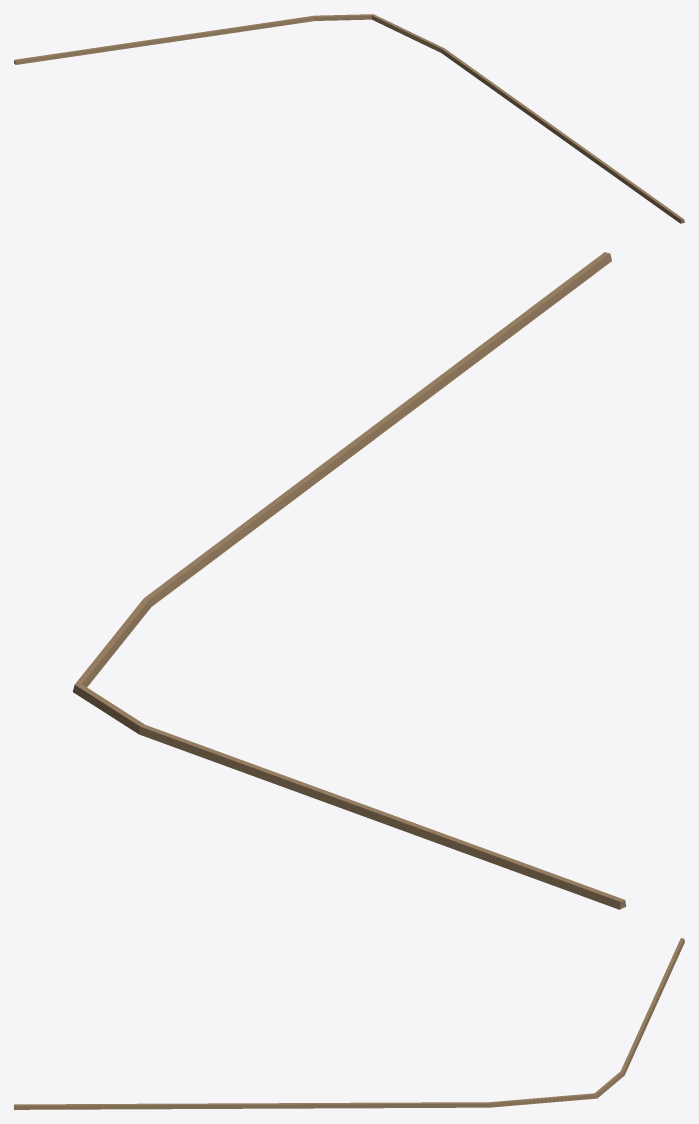
The model's file is wall-01.glb.
The picture shows the model from 3 angles, top to bottom: view 1: azimuth 30°, elevation 25°; view 2: azimuth 150°, elevation 25°; view 3: azimuth 270°, elevation 25°; orthographic projection. The views are drawn at different scales.
Parts seen in each view (by area): view 1: C_wall_B_01; view 2: C_wall_B_01; view 3: C_wall_B_01.
Part boxes in pixels (left/top/right/bottom): C_wall_B_01: left=14, top=14, right=684, bottom=223; C_wall_B_01: left=72, top=252, right=626, bottom=909; C_wall_B_01: left=14, top=938, right=684, bottom=1109.
Bounding box in the file's own units: 766 × 7.83 × 1292.
